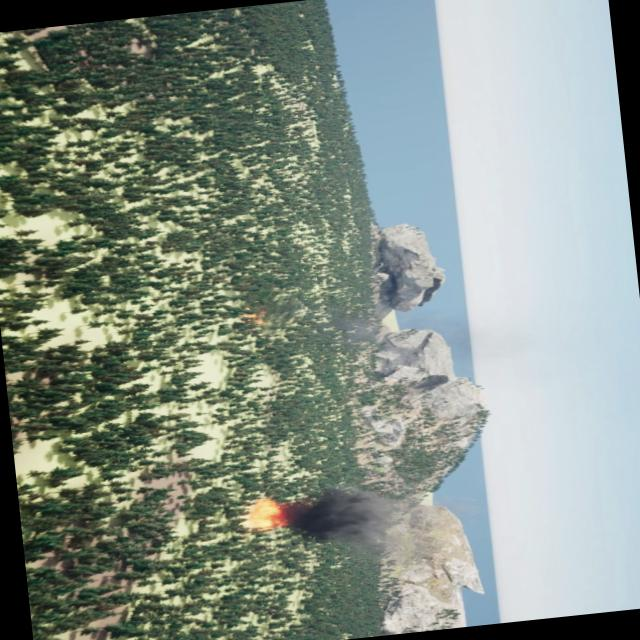fire: (245, 494, 292, 530), (245, 300, 273, 326)
smoke: (283, 480, 412, 570)
